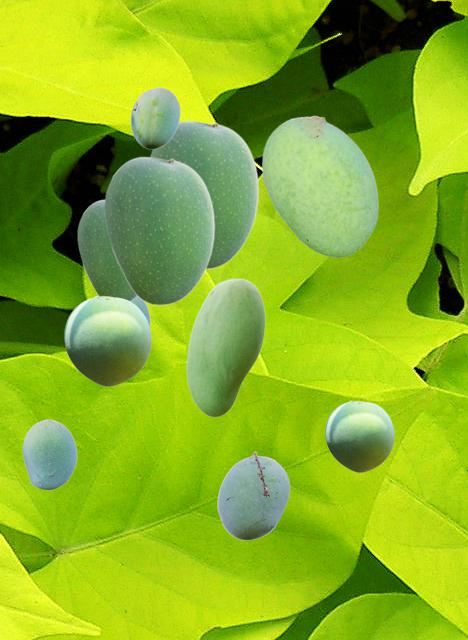green_mango: (104, 156, 214, 304), (262, 115, 377, 256), (150, 120, 258, 268), (186, 278, 264, 416), (64, 295, 150, 385), (217, 451, 289, 539), (77, 199, 136, 300), (325, 400, 393, 471), (22, 419, 76, 489), (130, 87, 179, 148), (132, 298, 149, 323)
